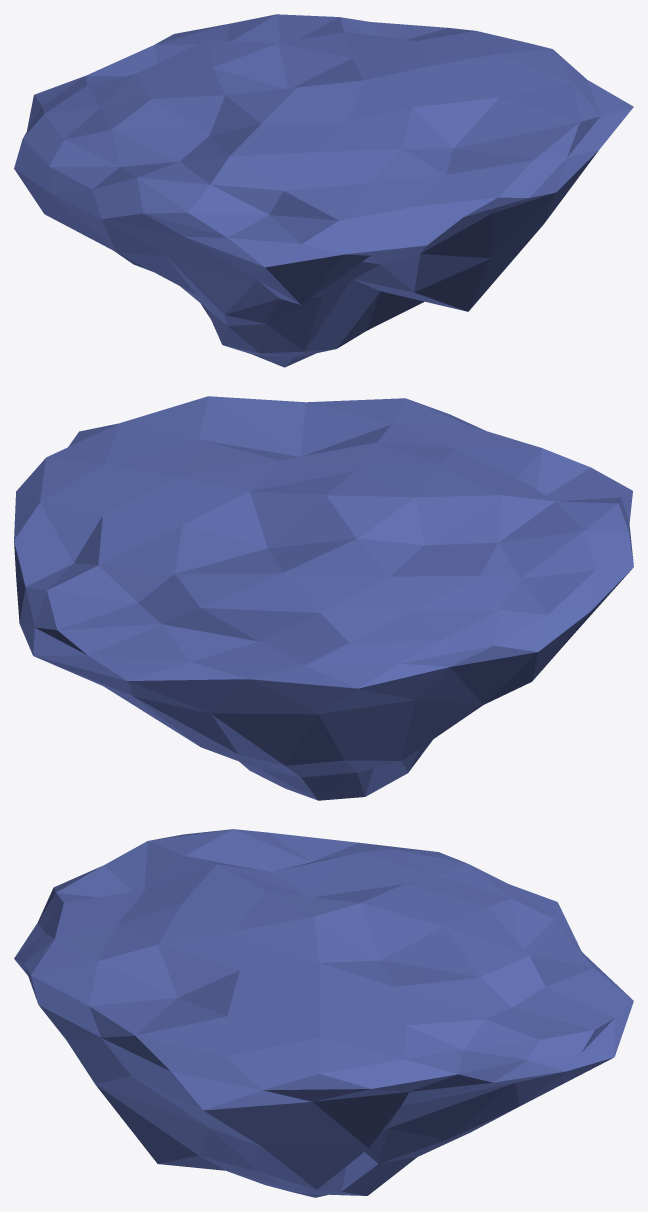
File: IslandBlue.fbx
The picture shows the model from 3 angles, top to bottom: view 1: azimuth 30°, elevation 25°; view 2: azimuth 150°, elevation 25°; view 3: azimuth 270°, elevation 25°; orthographic projection. The views are drawn at different scales.
Parts seen in each view (by area): view 1: Island.001; view 2: Island.001; view 3: Island.001.
Boxes of the visible parts, x1,y1,x2,y2 form: Island.001: (14,14,633,367); Island.001: (14,396,633,800); Island.001: (14,829,633,1197).
Bounding box in the file's own units: 1196 × 600 × 1172.
Materials: 1 (1 with a texture image).
